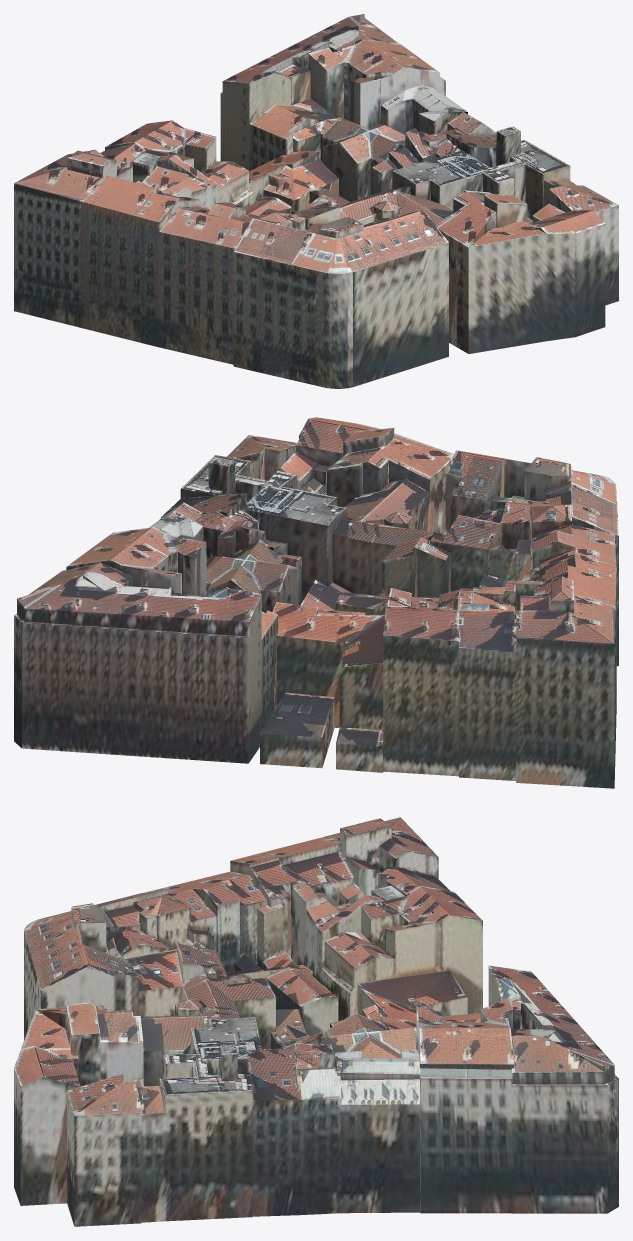
Rendered from LYON_1ER_00141.dae.
3 renders of one model, top to bottom at view 1: azimuth 30°, elevation 25°; view 2: azimuth 150°, elevation 25°; view 3: azimuth 270°, elevation 25°, orthographic. The views are drawn at different scales.
Bounding box in the file's own units: 105 × 102 × 32.76.
2 materials, 2 textured.
